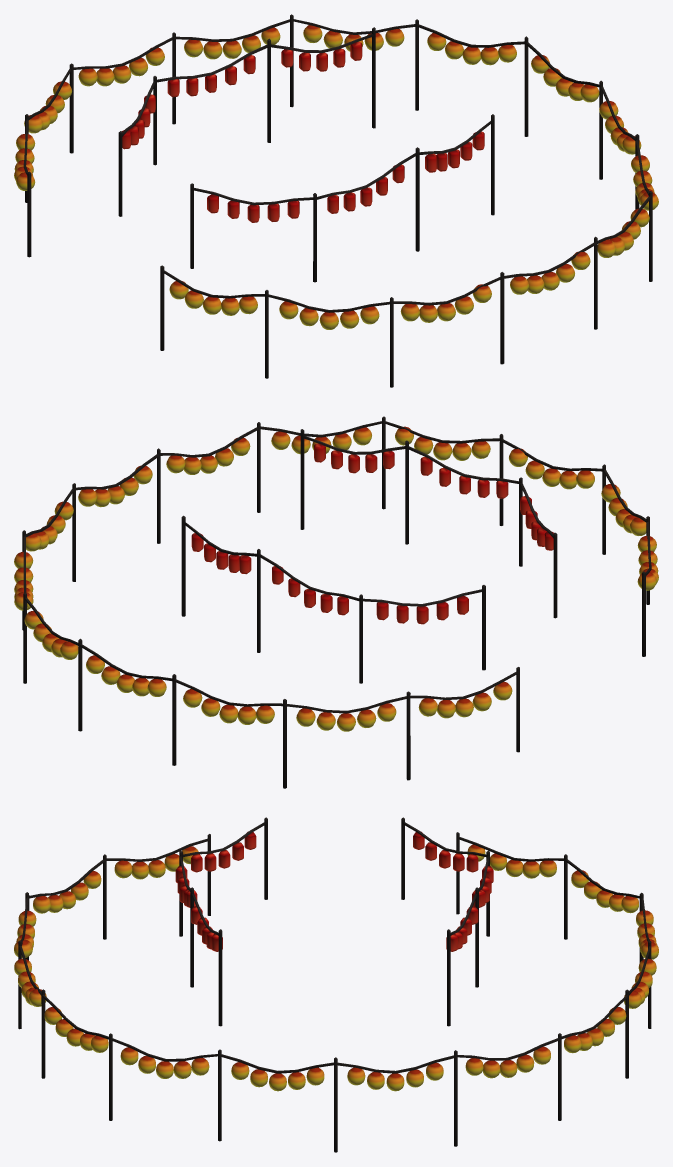
Rendered from HL_Lantern.fbx.
3 renders of one model, top to bottom at view 1: azimuth 30°, elevation 25°; view 2: azimuth 150°, elevation 25°; view 3: azimuth 270°, elevation 25°, orthographic. The views are drawn at different scales.
Visible parts, largest first — view 1: Hanging_Lantern_Bottom2; view 2: Hanging_Lantern_Bottom2; view 3: Hanging_Lantern_Bottom2.
Part boxes in pixels (x1=…): Hanging_Lantern_Bottom2: x1=14, y1=14, x2=658, y2=387; Hanging_Lantern_Bottom2: x1=14, y1=416, x2=658, y2=788; Hanging_Lantern_Bottom2: x1=14, y1=817, x2=658, y2=1152.
Size of the model in its own units: 4461 by 1232 by 5004.
